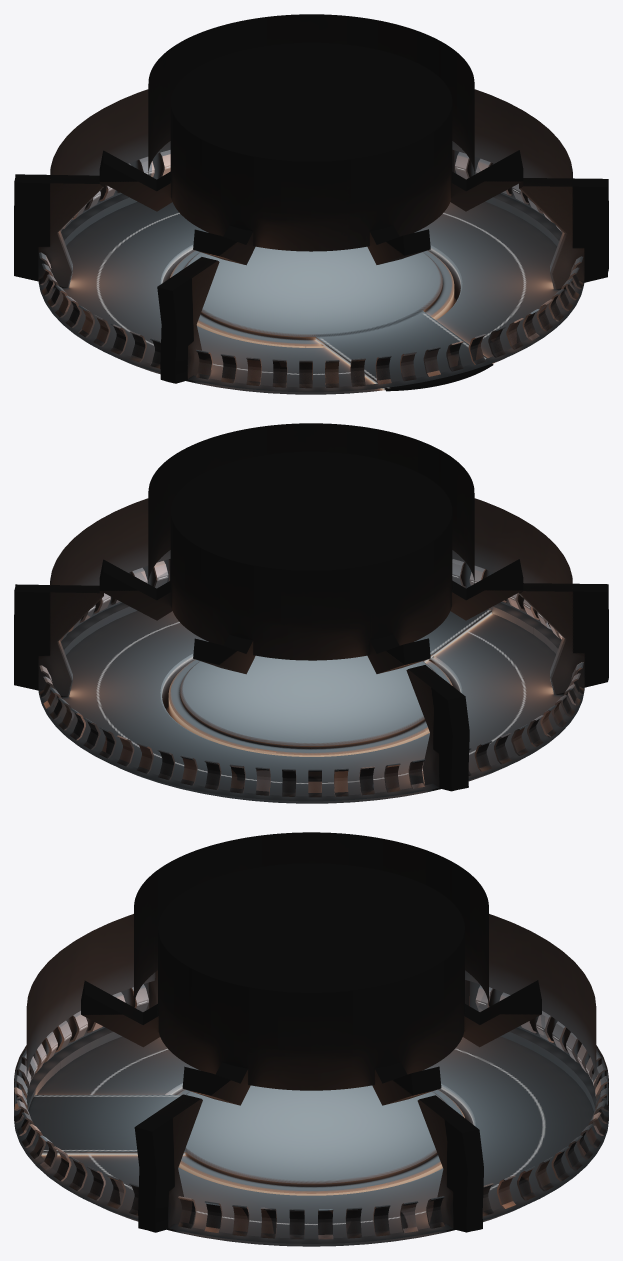
3 renders of one model, top to bottom at view 1: azimuth 30°, elevation 25°; view 2: azimuth 150°, elevation 25°; view 3: azimuth 270°, elevation 25°, orthographic. The views are drawn at different scales.
Parts seen in each view (by area): view 1: Box, roof, structure, wall_dec, roof_dec; view 2: Box, roof, structure, wall_dec, roof_dec; view 3: Box, roof, wall_dec, structure, roof_dec.
Part boxes in pixels (box(x1,y1,x2,y2)): Box: box(38, 14, 584, 394); roof: box(170, 42, 452, 251); structure: box(14, 149, 608, 383); wall_dec: box(39, 150, 583, 388); roof_dec: box(99, 150, 523, 265); Box: box(38, 423, 584, 803); roof: box(170, 451, 452, 660); structure: box(14, 559, 608, 791); wall_dec: box(39, 559, 583, 797); roof_dec: box(99, 559, 523, 674); Box: box(14, 832, 608, 1246); roof: box(158, 863, 464, 1090); wall_dec: box(14, 984, 608, 1239); structure: box(134, 970, 483, 1232); roof_dec: box(81, 980, 541, 1105).
Bounding box in the file's own units: 45.53 × 21.4 × 45.53.
Materials: 10 (10 with a texture image).
